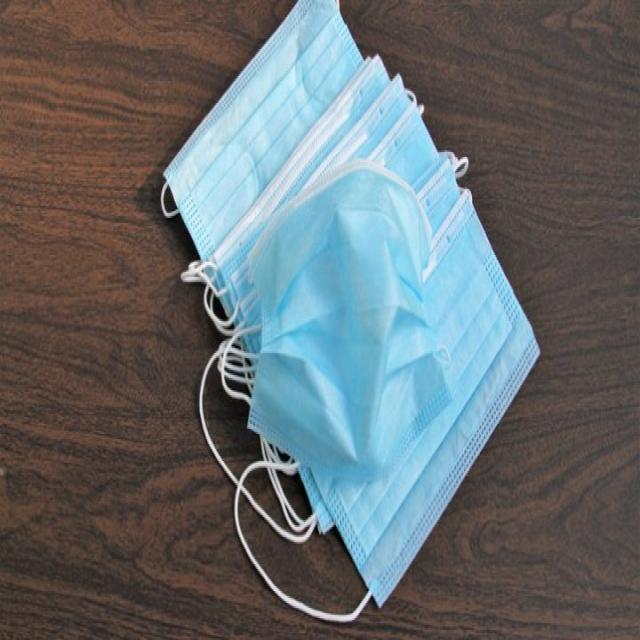face mask: (168, 0, 544, 613), (223, 170, 443, 462)
